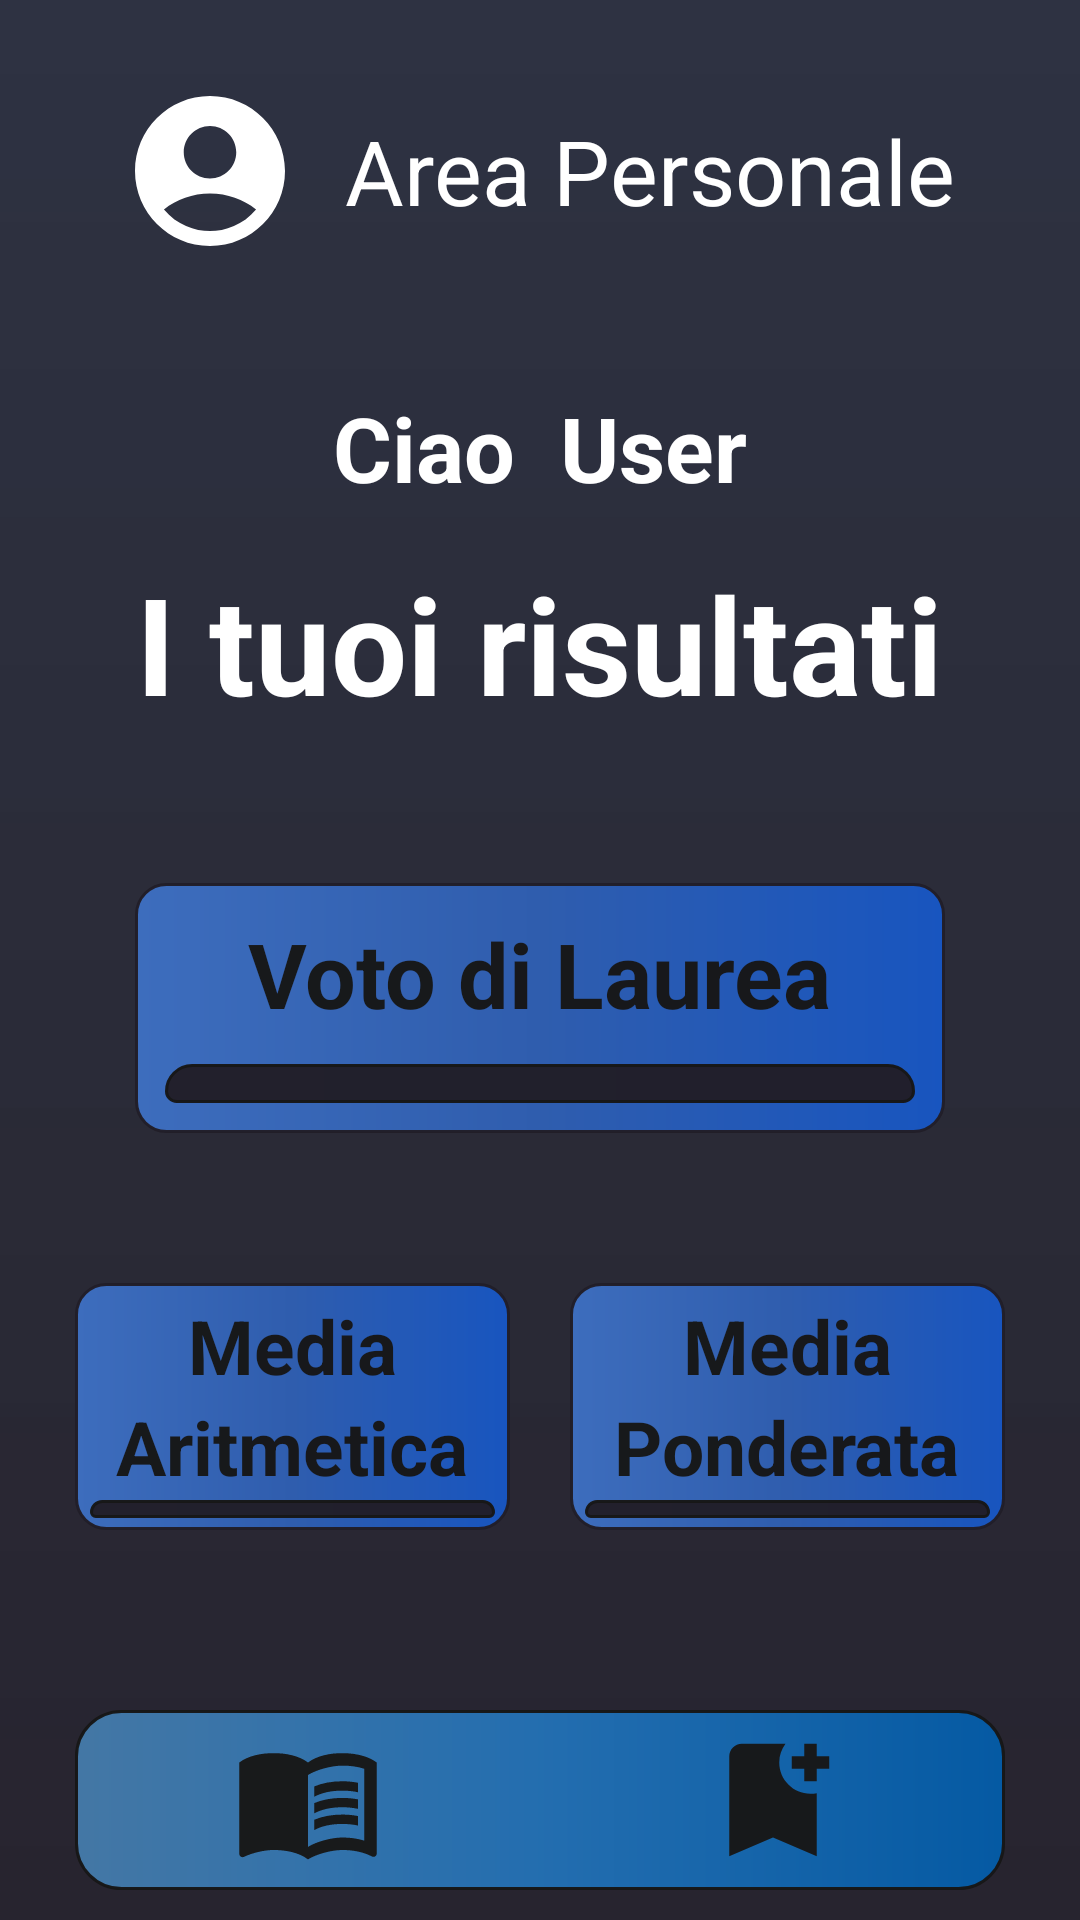

Icon bounding boxes for this 1080×1920 phone screenshot, format (x1, y1, x2, y2):
account circle: (135, 96, 285, 246)
book: (75, 1725, 377, 1875)
bookmark add: (729, 1725, 1005, 1875)
